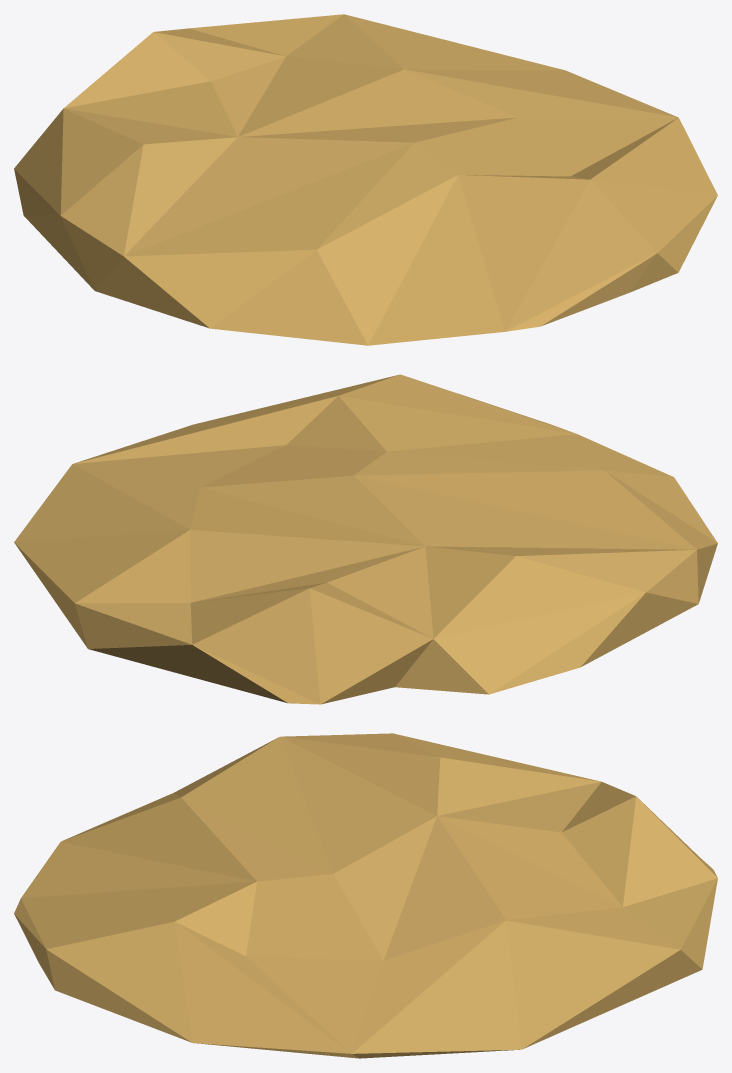
File: SM_Prop_Plate_Large_Grain_03.fbx
3 renders of one model, top to bottom at view 1: azimuth 30°, elevation 25°; view 2: azimuth 150°, elevation 25°; view 3: azimuth 270°, elevation 25°, orthographic.
Visible parts, largest first — view 1: SM_Prop_Plate_Large_Grain_03; view 2: SM_Prop_Plate_Large_Grain_03; view 3: SM_Prop_Plate_Large_Grain_03.
Part boxes in pixels (bbox=[...]): SM_Prop_Plate_Large_Grain_03: bbox=[14, 14, 717, 345]; SM_Prop_Plate_Large_Grain_03: bbox=[14, 374, 717, 704]; SM_Prop_Plate_Large_Grain_03: bbox=[14, 733, 717, 1058].
Size of the model in its own units: 110 by 14.34 by 112.
